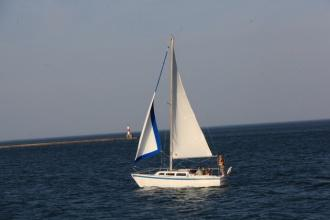fanchuan: (130, 35, 241, 192)
